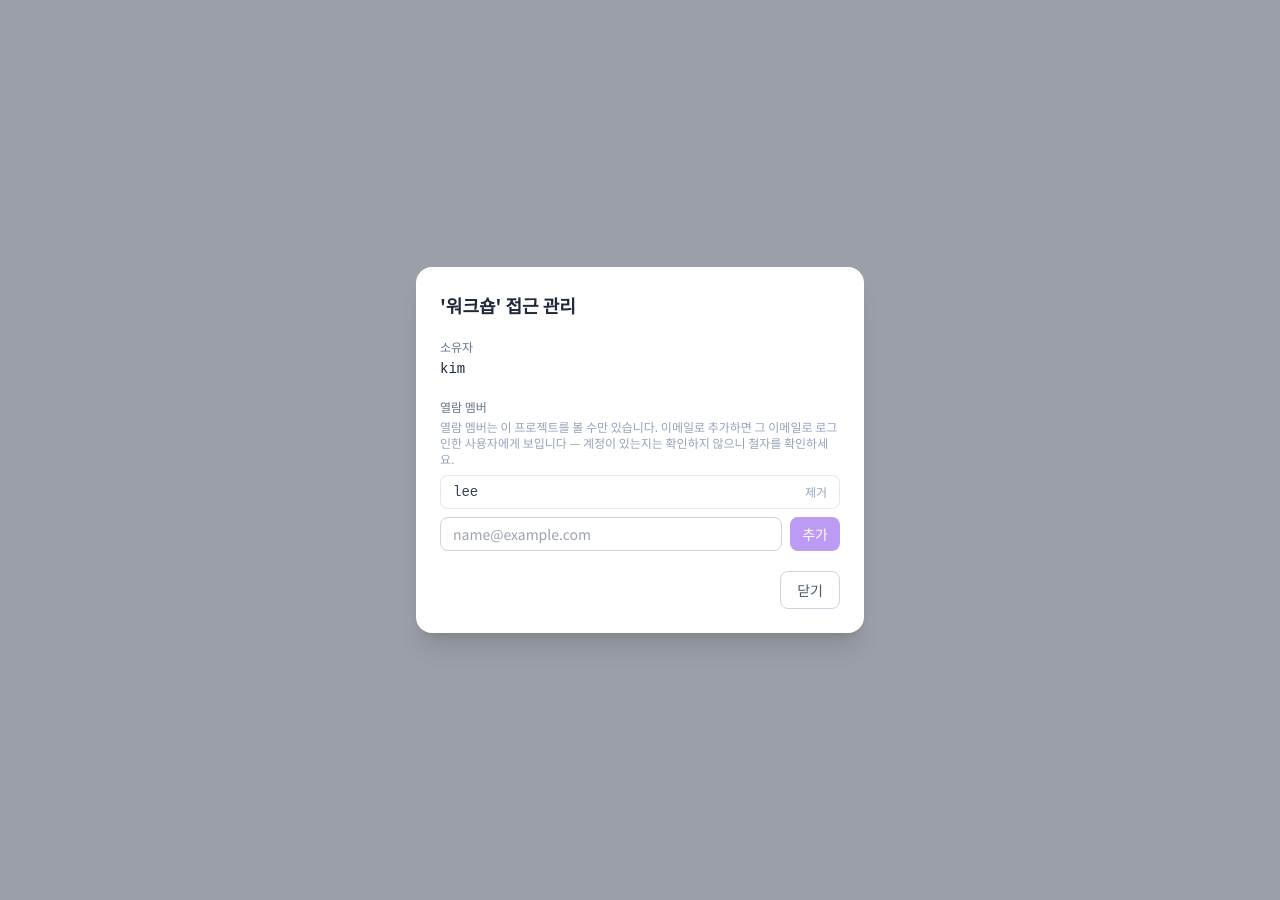
Scenario: ProjectMembersModal › shows the server's reason when a save is refused
Type "bad value" into the field named "열람 멤버 이메일". click: (611,534)
box: left=440, top=517, right=782, bottom=551
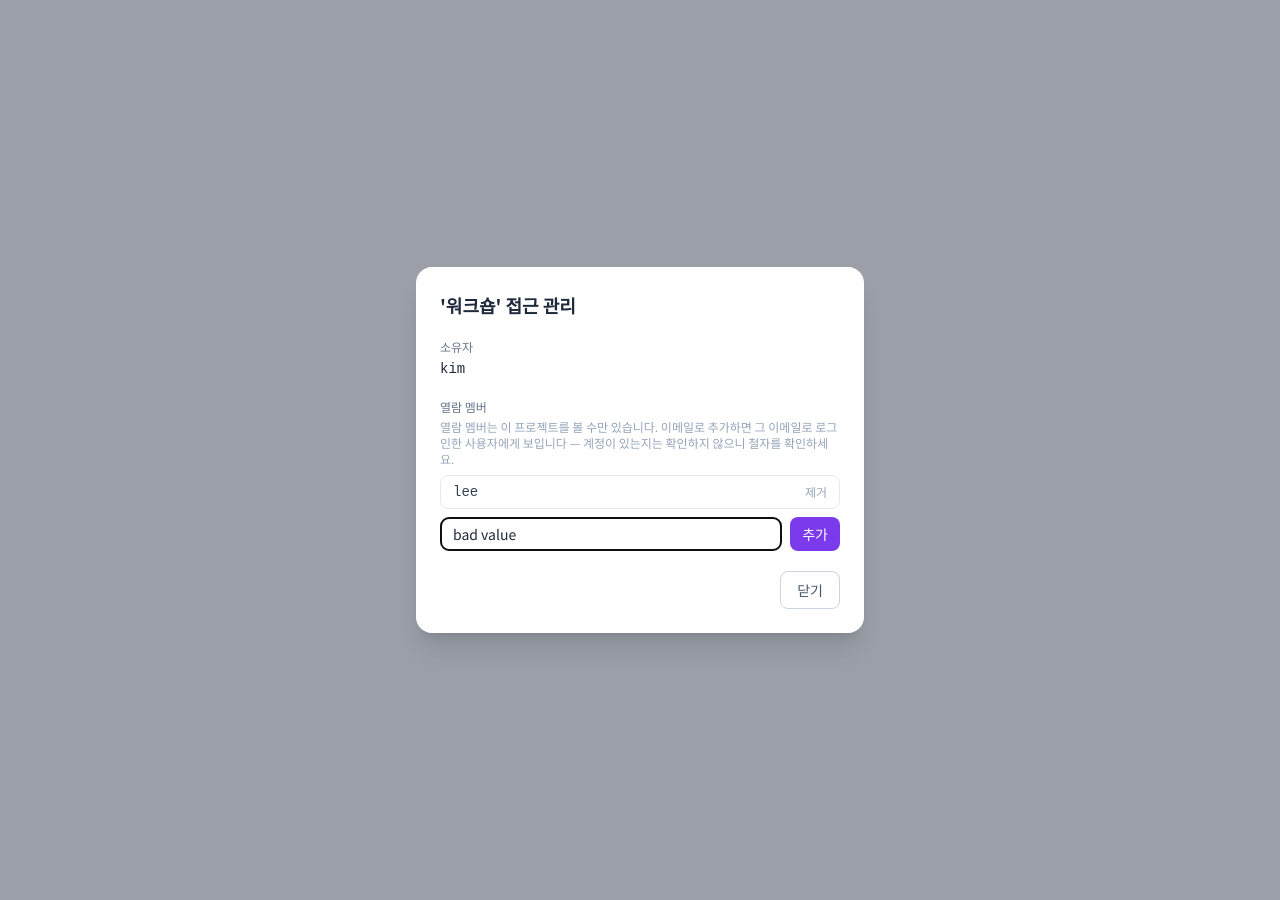
Click the button "추가". click: (815,534)
box: left=790, top=517, right=840, bottom=551
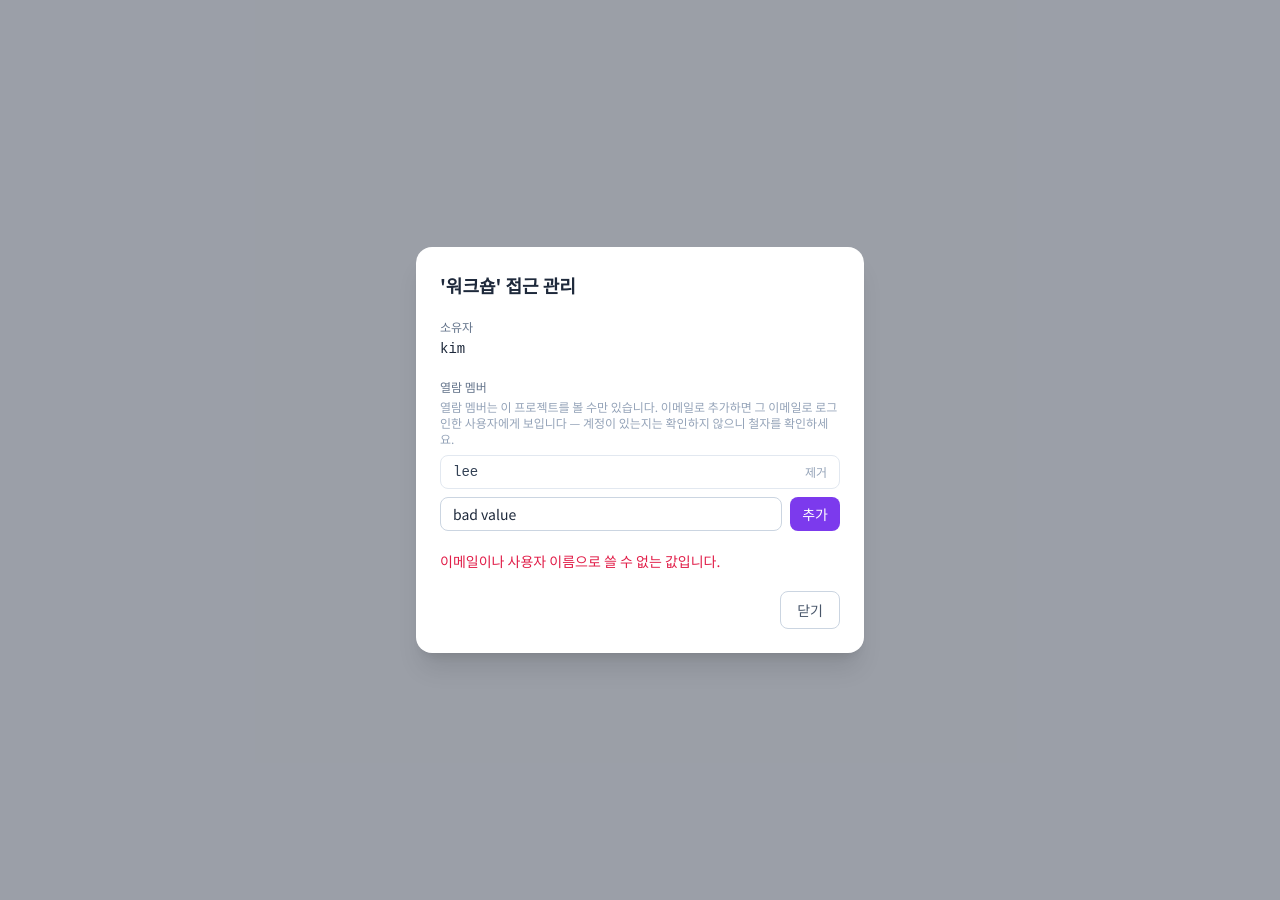
Now the message shows "쓸 수 없는 값", box left=440, top=551, right=720, bottom=571
